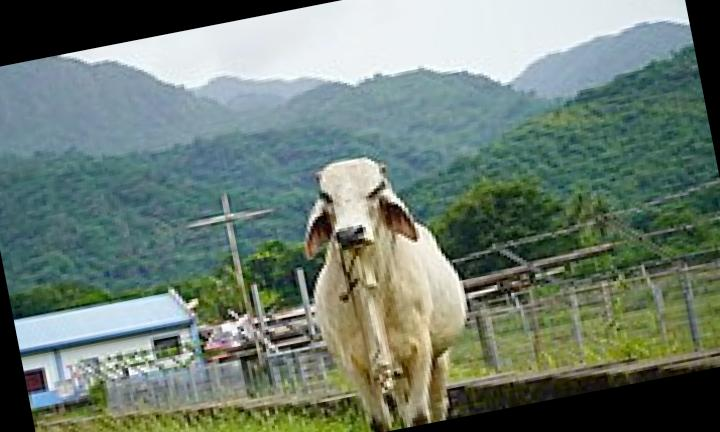Brahman: (306, 156, 466, 432)
